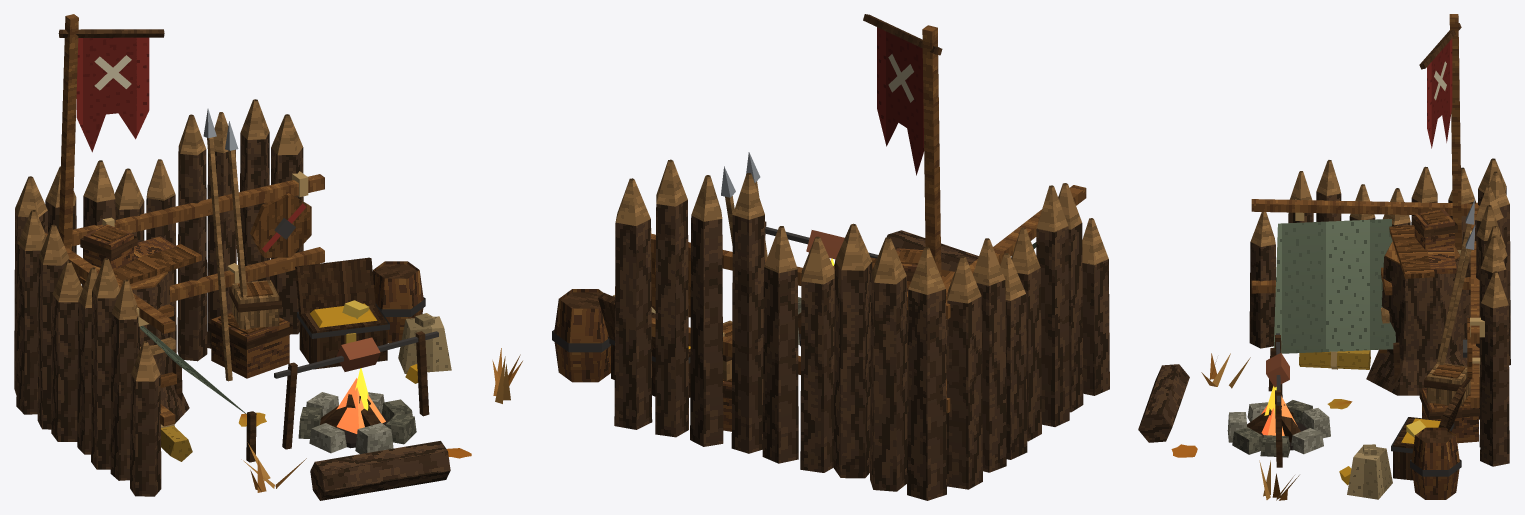
File: bandit_camp.glb
3 renders of one model, left to right at view 1: azimuth 30°, elevation 25°; view 2: azimuth 150°, elevation 25°; view 3: azimuth 270°, elevation 25°, orthographic. The views are drawn at different scales.
Parts seen in each view (by area): view 1: bandit_camp, sway_banner, glow_fire; view 2: bandit_camp, sway_banner; view 3: bandit_camp, sway_banner, glow_fire.
Boxes of the visible parts, left/top/right/bottom form: bandit_camp: left=14, top=14, right=522, bottom=500; sway_banner: left=58, top=29, right=164, bottom=152; glow_fire: left=336, top=368, right=385, bottom=433; bandit_camp: left=552, top=25, right=1109, bottom=500; sway_banner: left=863, top=14, right=942, bottom=175; bandit_camp: left=1138, top=14, right=1510, bottom=500; sway_banner: left=1419, top=23, right=1461, bottom=148; glow_fire: left=1261, top=386, right=1297, bottom=435.
Size of the model in its own units: 4.74 by 4.34 by 4.25.
32 materials, 16 textured.
